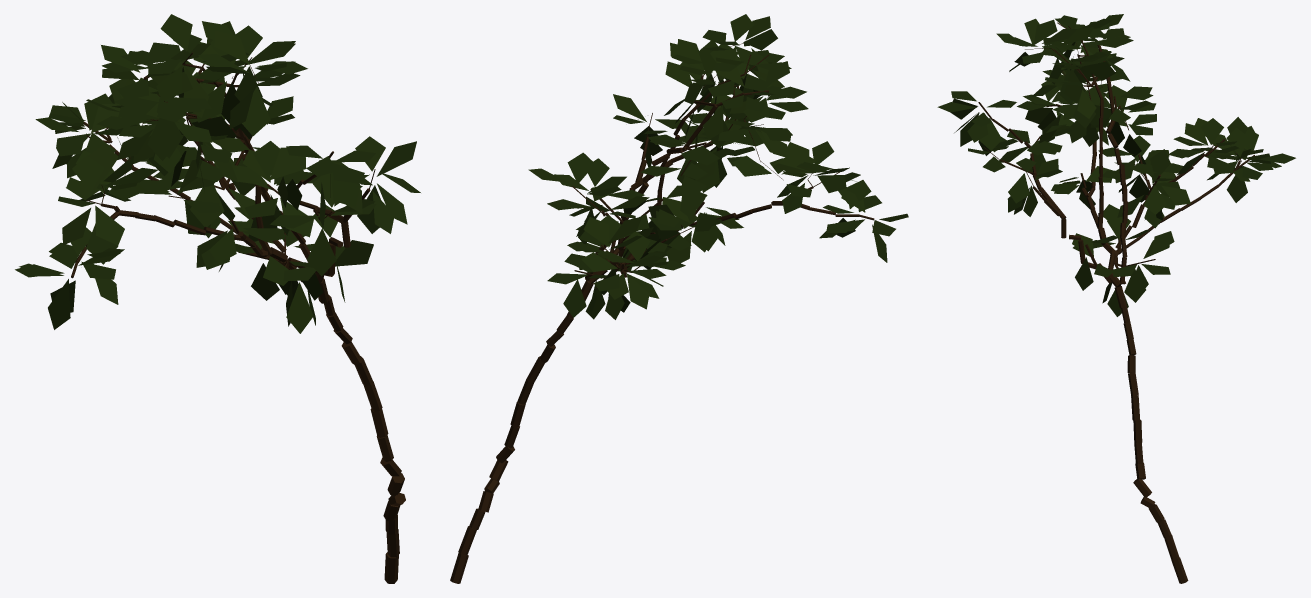
The model's file is tree_362.obj.
3 views of the same model, side by side, from view 1: azimuth 30°, elevation 25°; view 2: azimuth 150°, elevation 25°; view 3: azimuth 270°, elevation 25° (orthographic). The views are drawn at different scales.
Visible parts, largest first — view 1: Leaves, TrunkAndBranches; view 2: Leaves, TrunkAndBranches; view 3: Leaves, TrunkAndBranches.
Boxes of the visible parts, x1=… form: Leaves: x1=15, y1=14, x2=420, y2=333; TrunkAndBranches: x1=71, y1=52, x2=405, y2=583; Leaves: x1=528, y1=14, x2=908, y2=319; TrunkAndBranches: x1=450, y1=43, x2=874, y2=583; Leaves: x1=937, y1=14, x2=1295, y2=316; TrunkAndBranches: x1=978, y1=22, x2=1254, y2=583.
Size of the model in its own units: 2.9 by 3.96 by 2.74.
